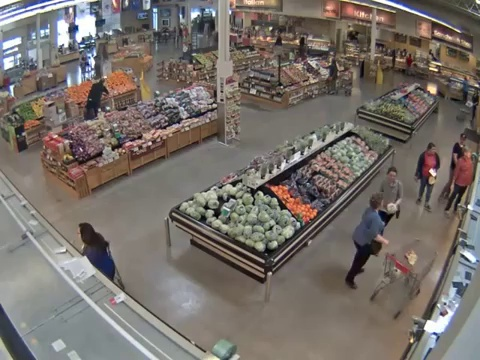face: (387, 171, 399, 182), (430, 146, 435, 153)
